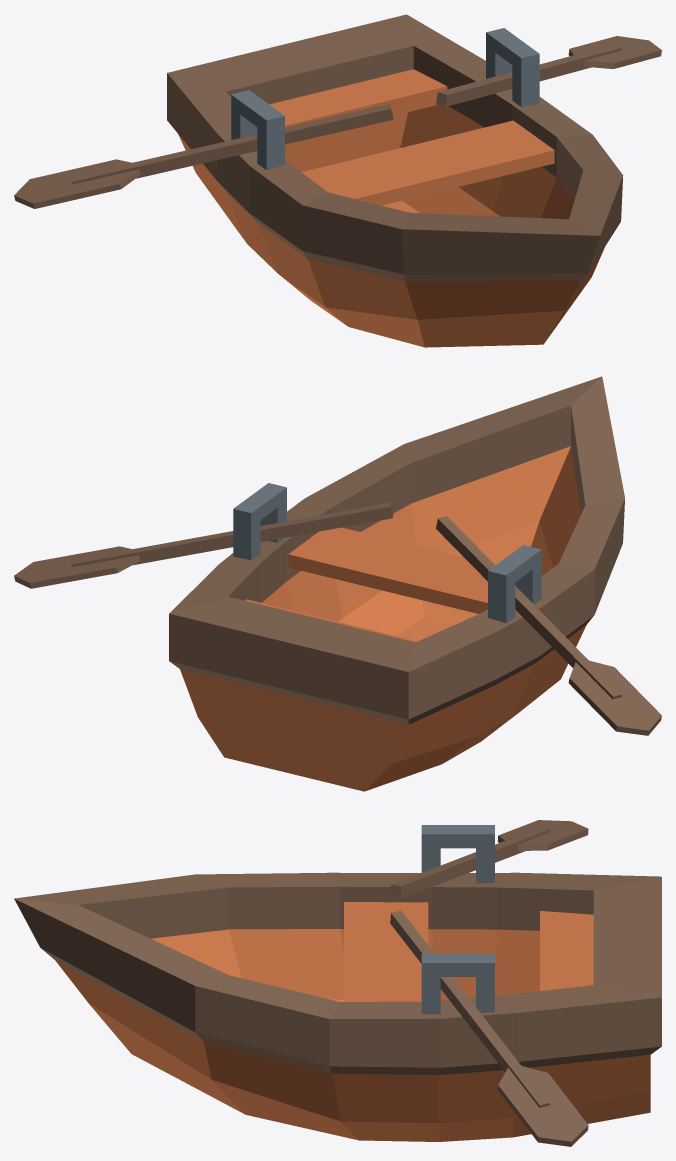
The model's file is Boat.fbx.
The picture shows the model from 3 angles, top to bottom: view 1: azimuth 30°, elevation 25°; view 2: azimuth 150°, elevation 25°; view 3: azimuth 270°, elevation 25°; orthographic projection. The views are drawn at different scales.
Parts seen in each view (by area): view 1: Boat, Boat_paddle_right, Boat_paddle_left; view 2: Boat, Boat_paddle_left, Boat_paddle_right; view 3: Boat, Boat_paddle_left, Boat_paddle_right.
Boxes of the visible parts, x1=… form: Boat: x1=167, y1=14, x2=623, y2=347; Boat_paddle_right: x1=14, y1=104, x2=393, y2=208; Boat_paddle_left: x1=436, y1=36, x2=661, y2=106; Boat: x1=169, y1=376, x2=624, y2=791; Boat_paddle_left: x1=14, y1=502, x2=393, y2=588; Boat_paddle_right: x1=436, y1=516, x2=661, y2=735; Boat: x1=14, y1=825, x2=661, y2=1141; Boat_paddle_left: x1=390, y1=910, x2=588, y2=1146; Boat_paddle_right: x1=390, y1=820, x2=588, y2=898.
Bounding box in the file's own units: 116 × 35.61 × 99.23.
